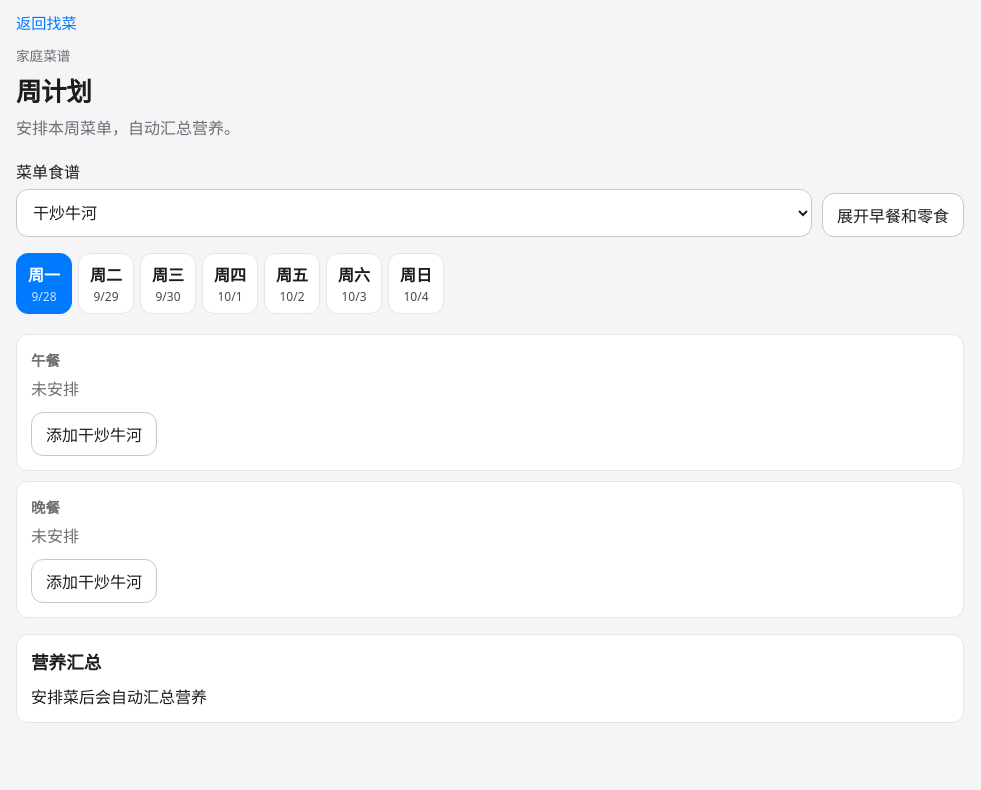
Test: WeekPlanner › shows the mobile date strip and adds lunch for the selected day
Click the tab with aria-label "选择" at (168, 284), box x1=140 y1=253 x2=196 y2=314
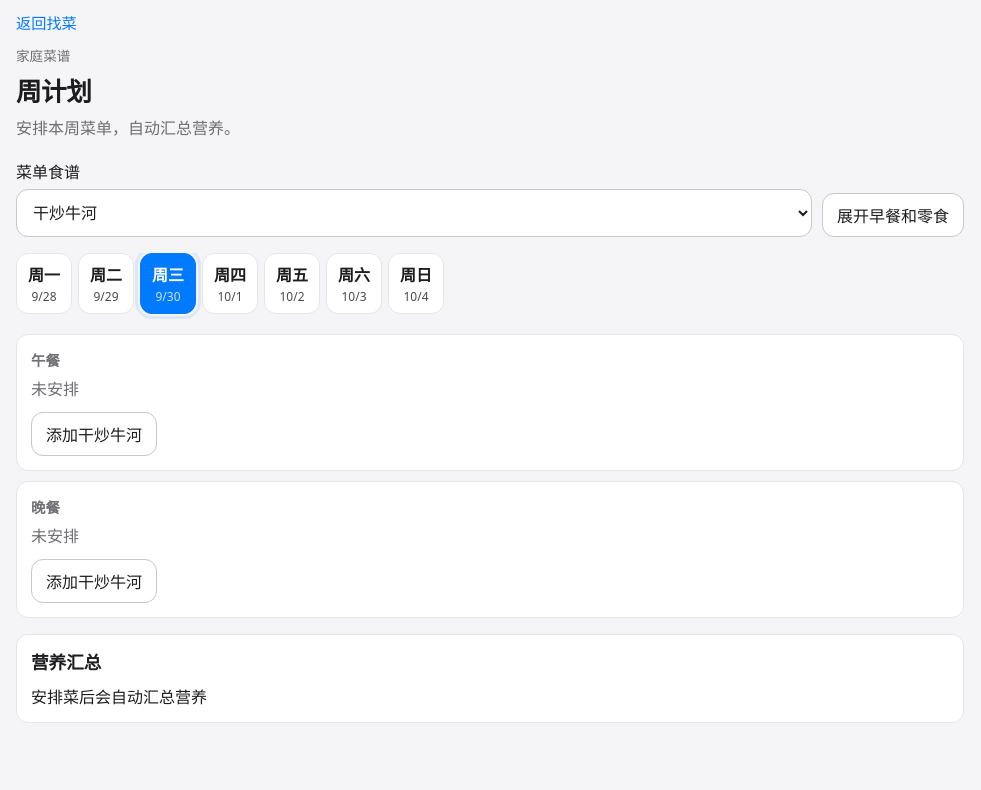
Result: the tab with aria-label "选择" is selected at x1=140 y1=253 x2=196 y2=314
Click the button with aria-label "添加午餐" at (94, 434), box x1=31 y1=412 x2=157 y2=456
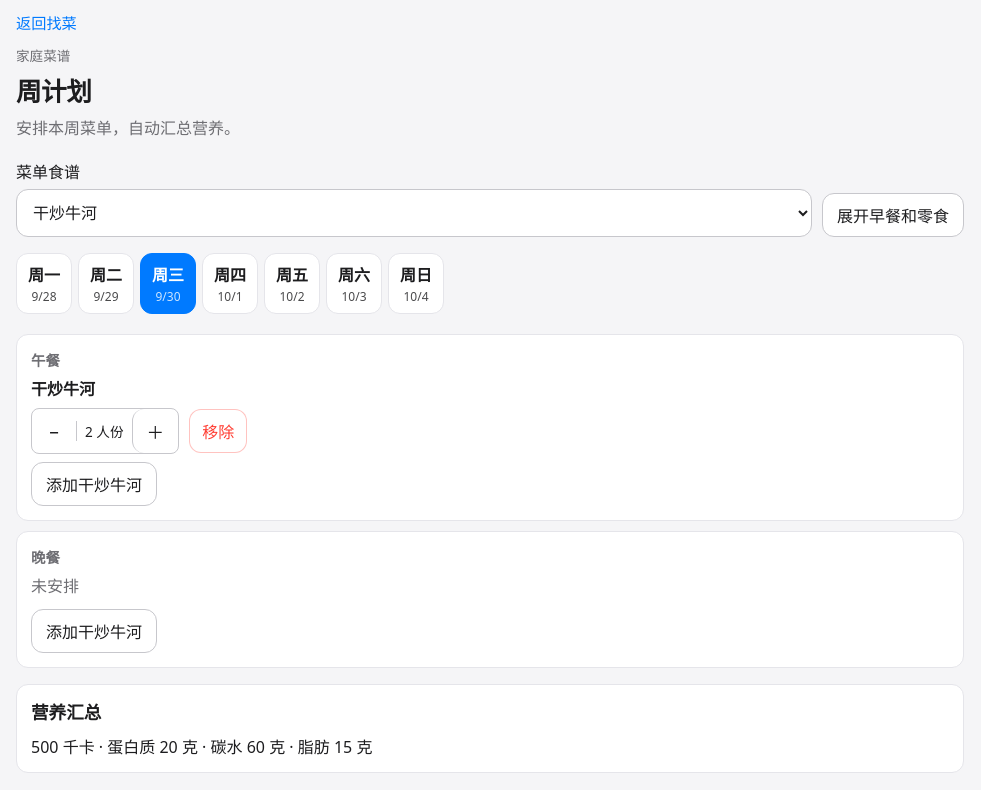
Result: the text "干炒牛河" is shown at x1=31 y1=378 x2=95 y2=400
Click the button "移除" at (218, 431), box x1=189 y1=409 x2=247 y2=453
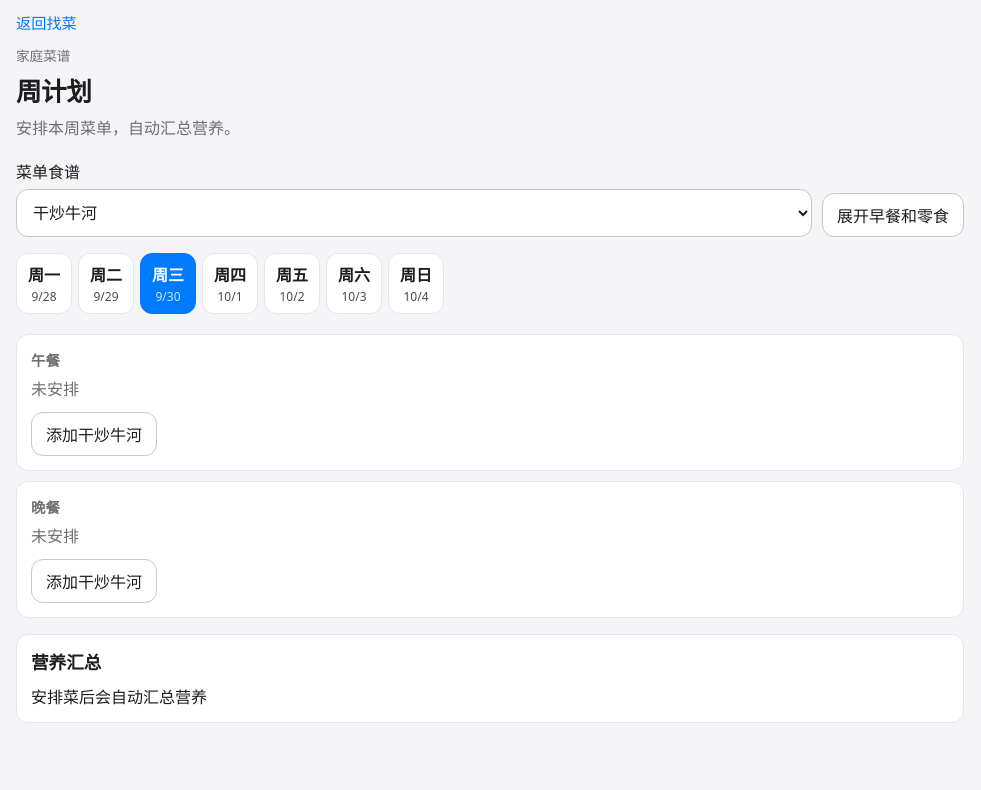
Result: the text "未安排" below "午餐" is shown at x1=31 y1=378 x2=79 y2=400
